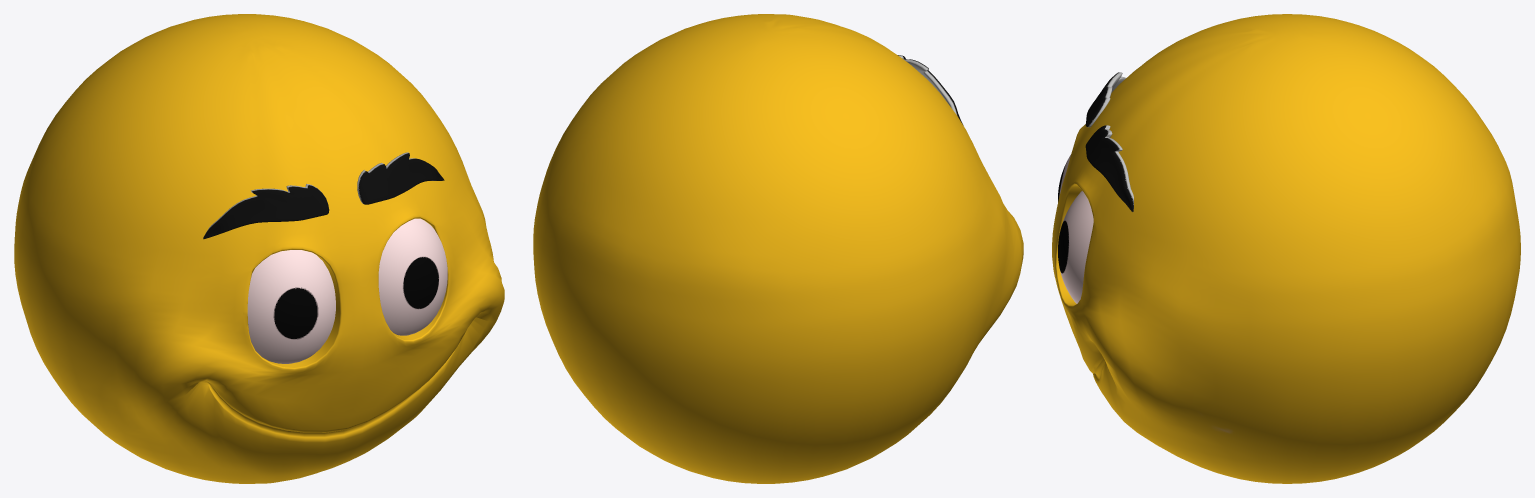
Rendered from smile_000016.obj.
3 views of the same model, side by side, from view 1: azimuth 30°, elevation 25°; view 2: azimuth 150°, elevation 25°; view 3: azimuth 270°, elevation 25° (orthographic).
Parts seen in each view (by area): view 1: Smile_Base1:polySurface1_Untitled; view 2: Smile_Base1:polySurface1_Untitled; view 3: Smile_Base1:polySurface1_Untitled.
Boxes of the visible parts, left/top/right/bottom form: Smile_Base1:polySurface1_Untitled: left=14, top=14, right=504, bottom=483; Smile_Base1:polySurface1_Untitled: left=533, top=14, right=1023, bottom=483; Smile_Base1:polySurface1_Untitled: left=1052, top=14, right=1520, bottom=483.
Size of the model in its own units: 0.0425 by 0.0431 by 0.0428.
1 material, 1 textured.
